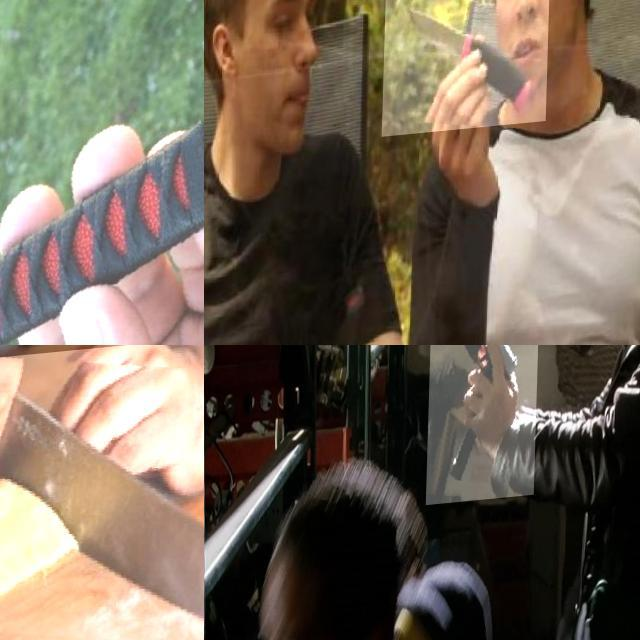-: (0, 0, 204, 345), (0, 345, 204, 640), (384, 0, 551, 143)
gun-knife-thesis - v11 Yolov5 augmented: (428, 345, 541, 511)
